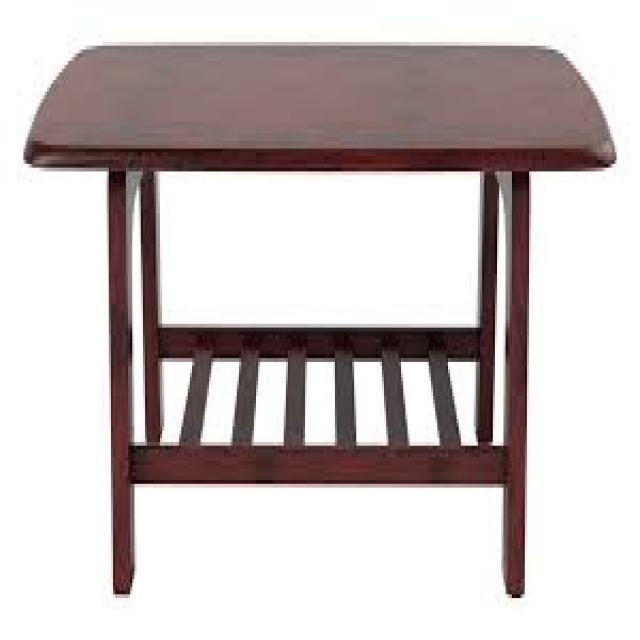obstacle: (12, 11, 618, 640)
